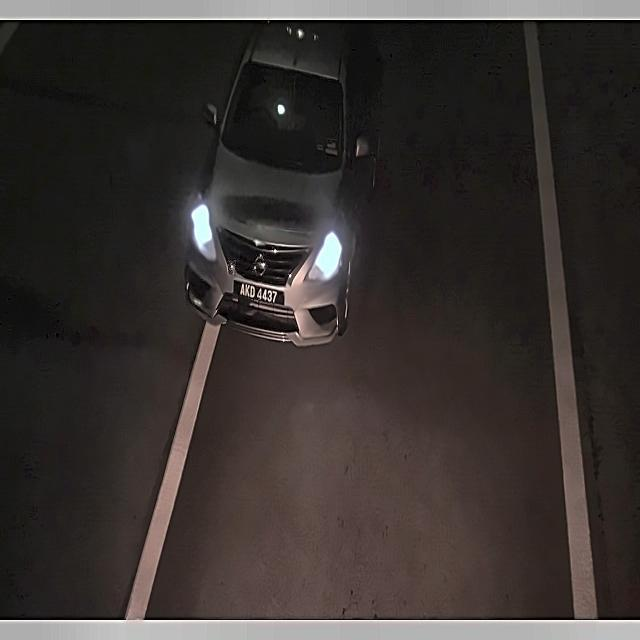car: (228, 278, 289, 312)
